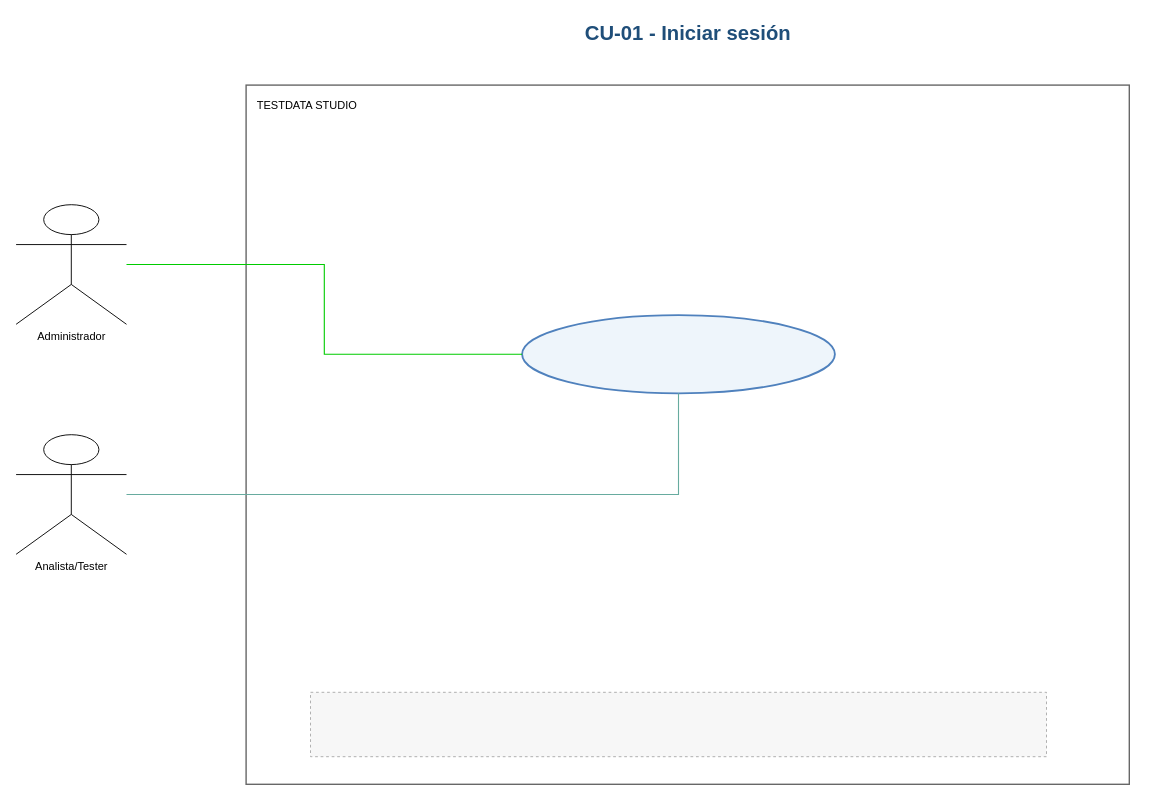
Image size: 1164x800. Some labels were removed from this diagram. The centre of each missing label's shape, as x and y in pixels:
"CU-01 Iniciar sesión" goes at pixel 678 354.
"Lectura UML Caso común de autenticación; no incluye ni extiende otro caso." goes at pixel 678 724.
